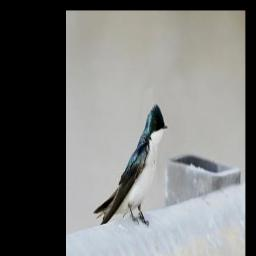Swallow: (93, 101, 169, 230)
